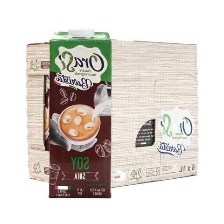carton: (43, 24, 115, 204)
